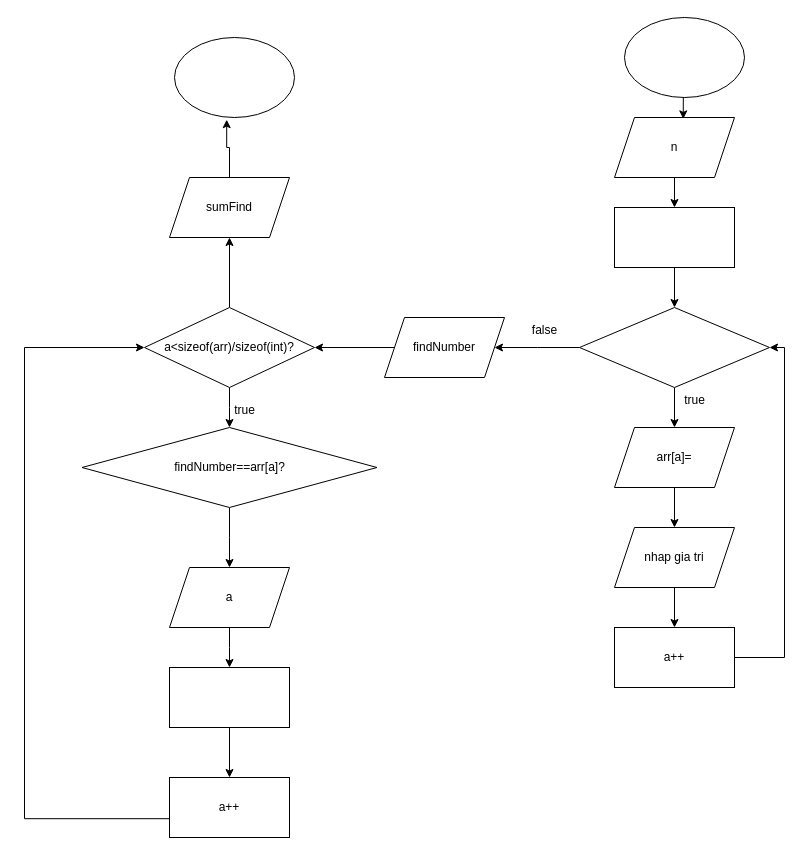
This 810x855 diagram has some shape labels left out. Each missing label, with the box of its shape:
a<sizeof(arr)/sizeof(int): (578, 306, 770, 388)
a=0 arr[n] sumFind: (614, 206, 734, 268)
end: (174, 36, 294, 118)
start: (624, 16, 744, 98)
sumFind=sumFind+arr[a]: (168, 666, 290, 728)
